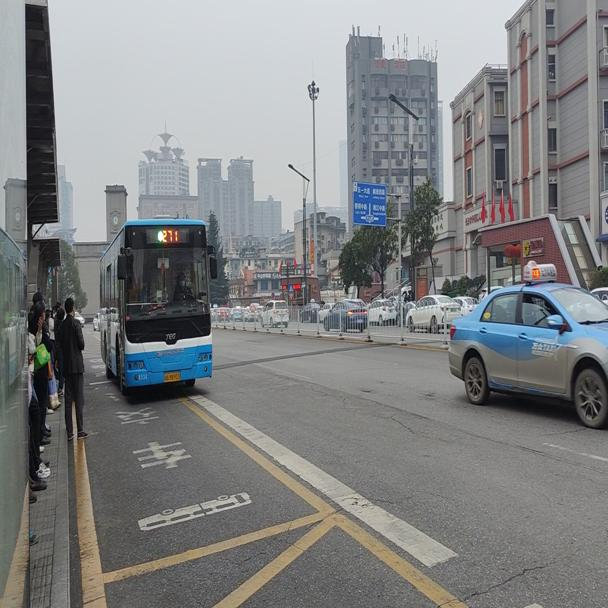bus: (99, 211, 213, 391)
screen: (162, 226, 180, 243)
